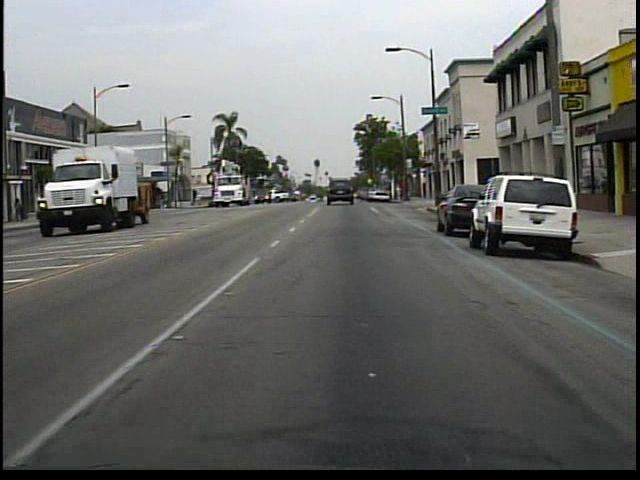person: (17, 194, 27, 223)
